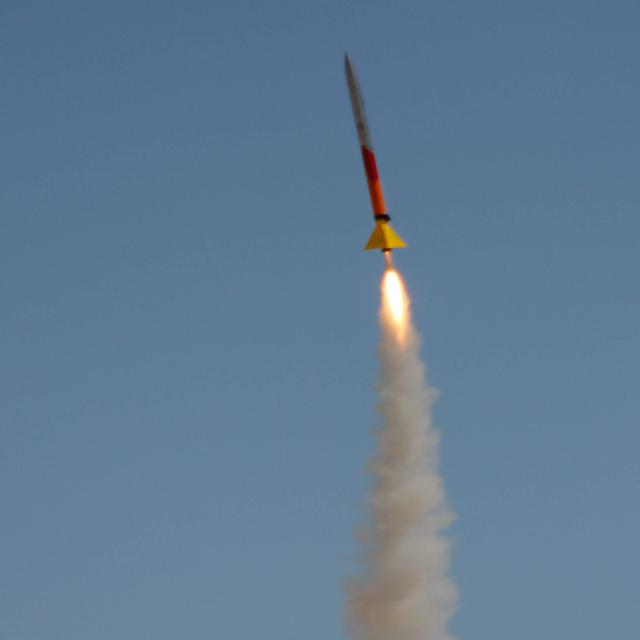Rocket: (341, 51, 408, 254)
